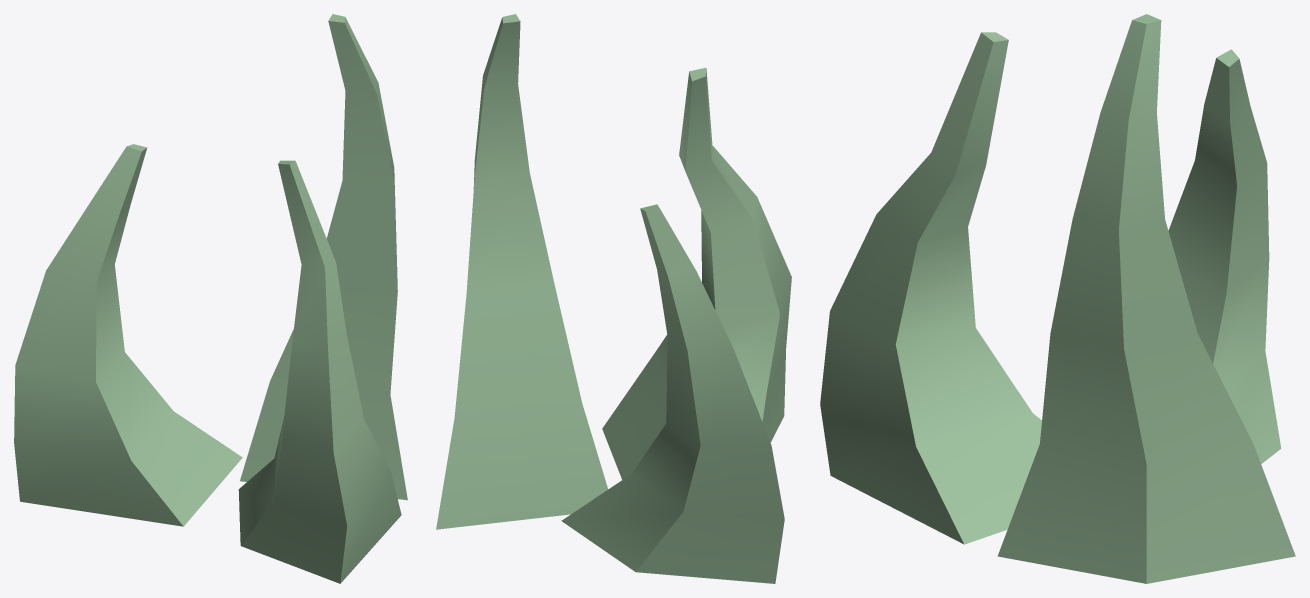
The model's file is Grass_Mystic_01 1.fbx.
3 views of the same model, side by side, from view 1: azimuth 30°, elevation 25°; view 2: azimuth 150°, elevation 25°; view 3: azimuth 270°, elevation 25° (orthographic). The views are drawn at different scales.
Visible parts, largest first — view 1: Grass_Cathy1; view 2: Grass_Cathy1; view 3: Grass_Cathy1.
Part boxes in pixels (x1,y1,x2,y2): Grass_Cathy1: (14,14,407,583); Grass_Cathy1: (436,14,791,583); Grass_Cathy1: (820,14,1295,583).
Bounding box in the file's own units: 25.96 × 31.41 × 25.47.
